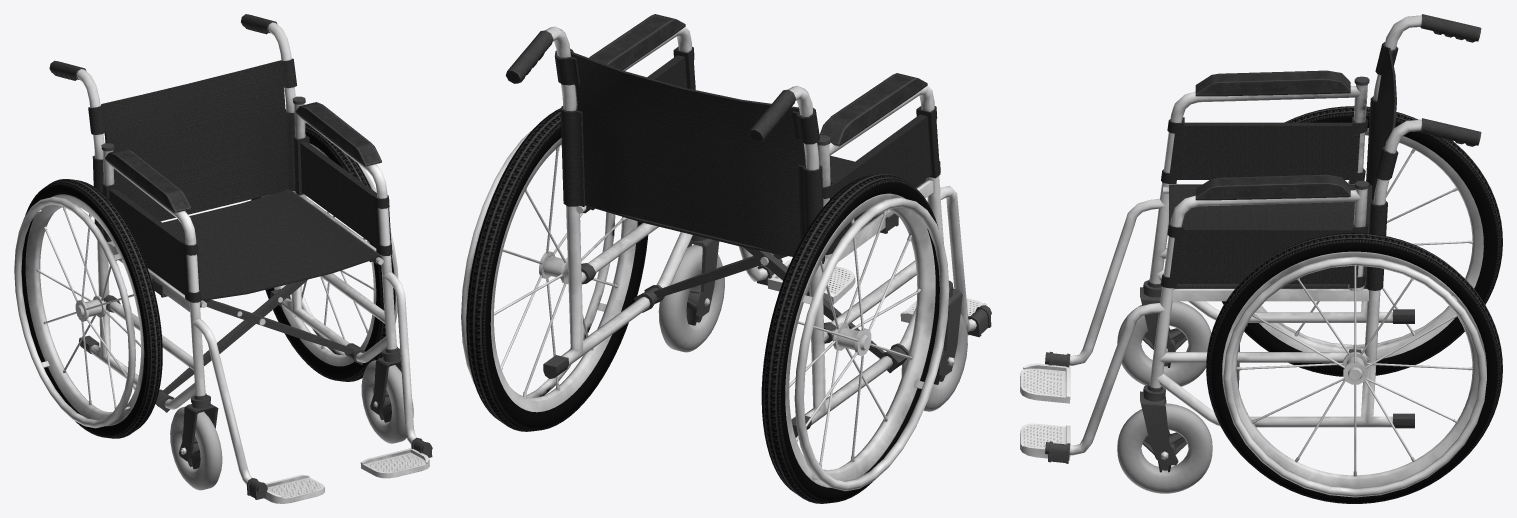
File: WheelChair.fbx
3 views of the same model, side by side, from view 1: azimuth 30°, elevation 25°; view 2: azimuth 150°, elevation 25°; view 3: azimuth 270°, elevation 25° (orthographic). The views are drawn at different scales.
Visible parts, largest first — view 1: WheelChair1; view 2: WheelChair1; view 3: WheelChair1.
Boxes of the visible parts, bbox=[...] form: WheelChair1: bbox=[14, 14, 432, 503]; WheelChair1: bbox=[461, 14, 991, 503]; WheelChair1: bbox=[1020, 14, 1502, 503].
Size of the model in its own units: 77.42 by 91.58 by 107.
